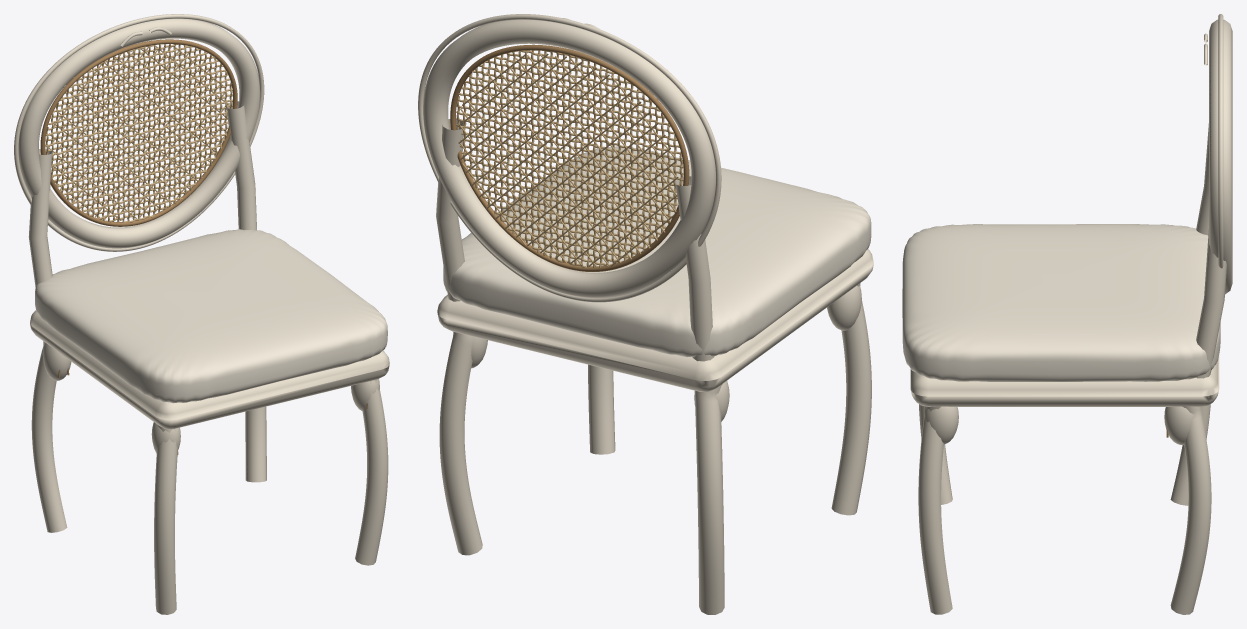
The model's file is chair.glb.
3 views of the same model, side by side, from view 1: azimuth 30°, elevation 25°; view 2: azimuth 150°, elevation 25°; view 3: azimuth 270°, elevation 25° (orthographic). The views are drawn at different scales.
Visible parts, largest first — view 1: chair__Warm aged ivory lacquer, chair__Natural cream linen, chair__Split rattan fibres, chair__Honey ash exposed edges; view 2: chair__Warm aged ivory lacquer, chair__Natural cream linen, chair__Split rattan fibres, chair__Honey ash exposed edges; view 3: chair__Natural cream linen, chair__Warm aged ivory lacquer.
Boxes of the visible parts, <box> form: chair__Warm aged ivory lacquer: <box>14,14,389,614</box>; chair__Natural cream linen: <box>35,229,387,403</box>; chair__Split rattan fibres: <box>45,44,232,222</box>; chair__Honey ash exposed edges: <box>40,39,367,454</box>; chair__Warm aged ivory lacquer: <box>418,14,873,614</box>; chair__Natural cream linen: <box>443,146,871,356</box>; chair__Split rattan fibres: <box>456,50,683,267</box>; chair__Honey ash exposed edges: <box>450,44,689,271</box>; chair__Natural cream linen: <box>902,224,1220,381</box>; chair__Warm aged ivory lacquer: <box>910,14,1232,614</box>.
Size of the model in its own units: 0.4888 by 0.889 by 0.508.
